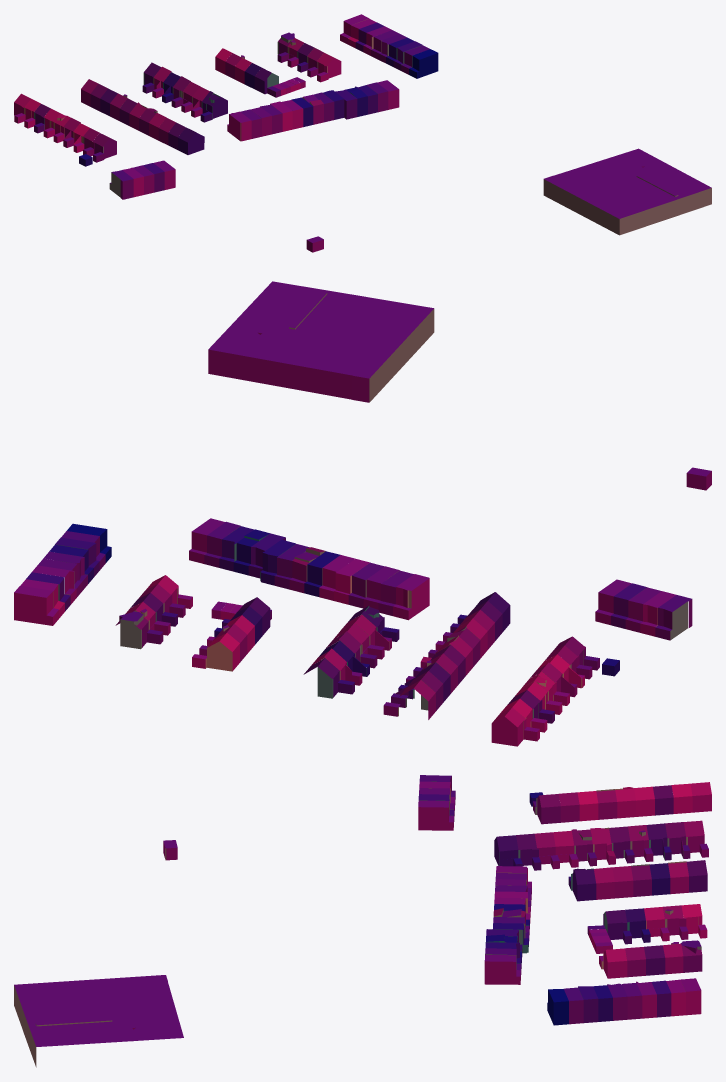
File: buildings_10_5.glb
3 views of the same model, one above another, from view 1: azimuth 30°, elevation 25°; view 2: azimuth 150°, elevation 25°; view 3: azimuth 270°, elevation 25° (orthographic). The views are drawn at different scales.
Parts seen in each view (by area): view 1: buildings_10_5; view 2: buildings_10_5; view 3: buildings_10_5.
Part boxes in pixels (box(x1,y1,x2,y2)): buildings_10_5: box(14, 14, 711, 252); buildings_10_5: box(14, 281, 711, 746); buildings_10_5: box(14, 775, 711, 1067).
Bounding box in the file's own units: 210 × 9.56 × 229.
